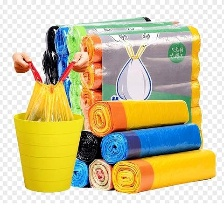plastic_bag: (113, 143, 218, 196), (78, 77, 208, 117), (79, 51, 202, 93), (97, 118, 204, 165), (82, 25, 203, 65), (63, 18, 185, 56), (50, 15, 152, 60), (89, 94, 191, 134), (20, 79, 76, 125), (86, 153, 120, 193), (70, 127, 101, 164), (62, 50, 90, 83), (65, 156, 89, 191), (38, 48, 63, 81), (41, 19, 64, 54), (69, 79, 89, 112)
